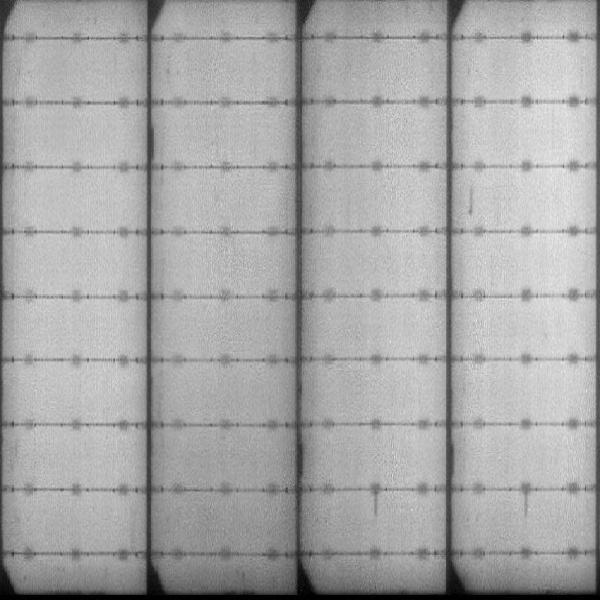scratch: (371, 480, 383, 527), (463, 184, 478, 216), (520, 487, 532, 523)
